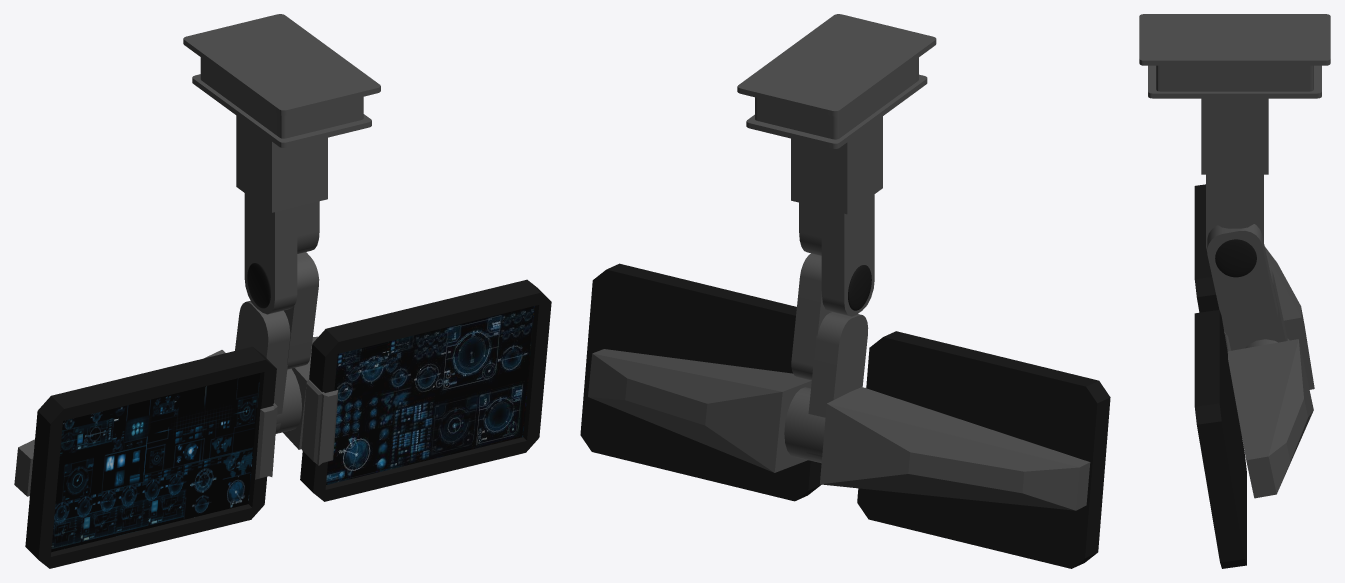
File: Computer.fbx
3 renders of one model, left to right at view 1: azimuth 30°, elevation 25°; view 2: azimuth 150°, elevation 25°; view 3: azimuth 270°, elevation 25°, orthographic. The views are drawn at different scales.
Visible parts, largest first — view 1: pCube12, pCube11, pCube4, pCube1, pCube2, pCube6, pCube5, pCube10, pCube3, pCube9, pCylinder1, pCube7 (+2 smaller); view 2: pCube12, pCube11, pCube7, pCube8, pCube4, pCube1, pCube6, pCube2, pCube5, pCylinder1, pCube3, pSphere2; view 3: pCube1, pCube11, pCube8, pCube4, pCube5, pCube2, pCube12, pCube3, pCube7, pSphere1, pCube6.
Boxes of the visible parts, x1,y1,x2,y2 form: pCube12: (25,346,276,568); pCube11: (300,279,551,501); pCube4: (236,115,327,314); pCube1: (183,14,380,115); pCube2: (200,57,363,138); pCube6: (235,301,290,433); pCube5: (284,252,319,369); pCube10: (301,379,338,465); pCube3: (192,74,371,147); pCube9: (255,403,277,479); pCylinder1: (276,368,301,433); pCube7: (14,350,225,496); pCube12: (857,331,1110,568); pCube11: (580,263,821,501); pCube7: (820,387,1090,510); pCube8: (588,349,811,472); pCube4: (791,116,882,316); pCube1: (737,14,936,116); pCube6: (806,312,868,460); pCube2: (755,57,918,139); pCube5: (791,253,831,380); pCylinder1: (784,387,825,463); pCube3: (746,74,927,148); pSphere2: (848,265,871,310); pCube1: (1139,14,1330,65); pCube11: (1194,310,1246,568); pCube8: (1227,339,1313,498); pCube4: (1201,98,1268,251); pCube5: (1207,224,1278,342); pCube2: (1156,65,1313,91); pCube12: (1194,184,1219,312); pCube3: (1148,65,1321,98); pCube7: (1264,246,1314,389); pSphere1: (1215,239,1256,277); pCube6: (1228,266,1287,350).
Size of the model in its own units: 16.03 by 13.53 by 5.56.
Materials: 4 (2 with a texture image).
